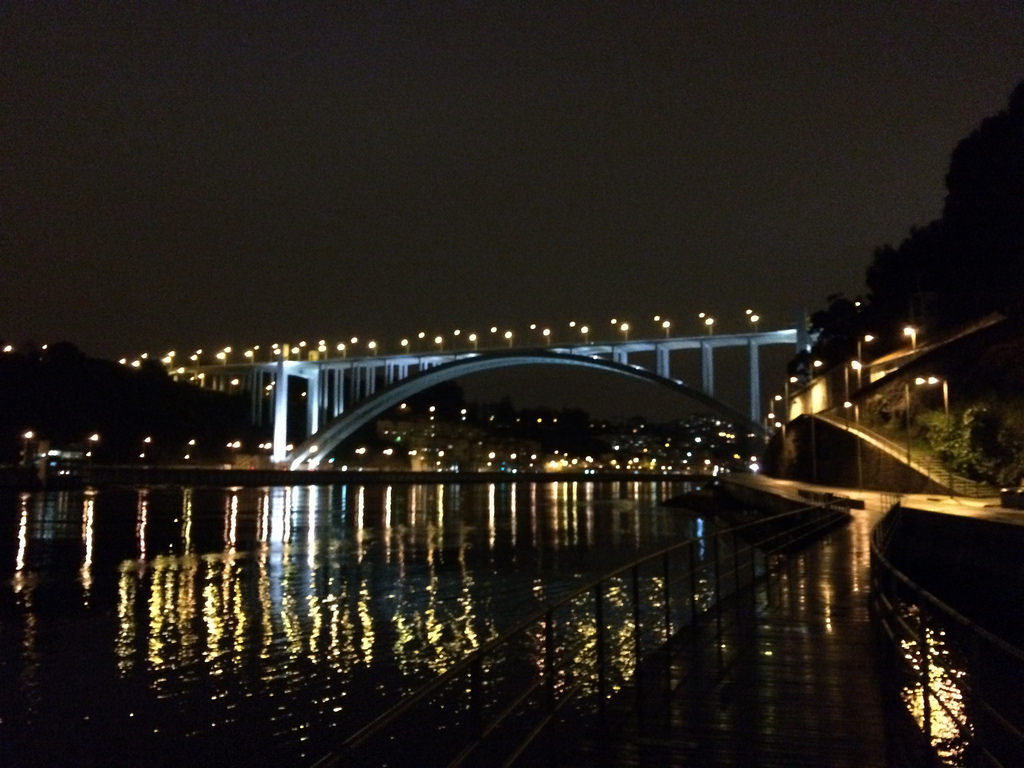arrabida: (166, 326, 819, 470)
